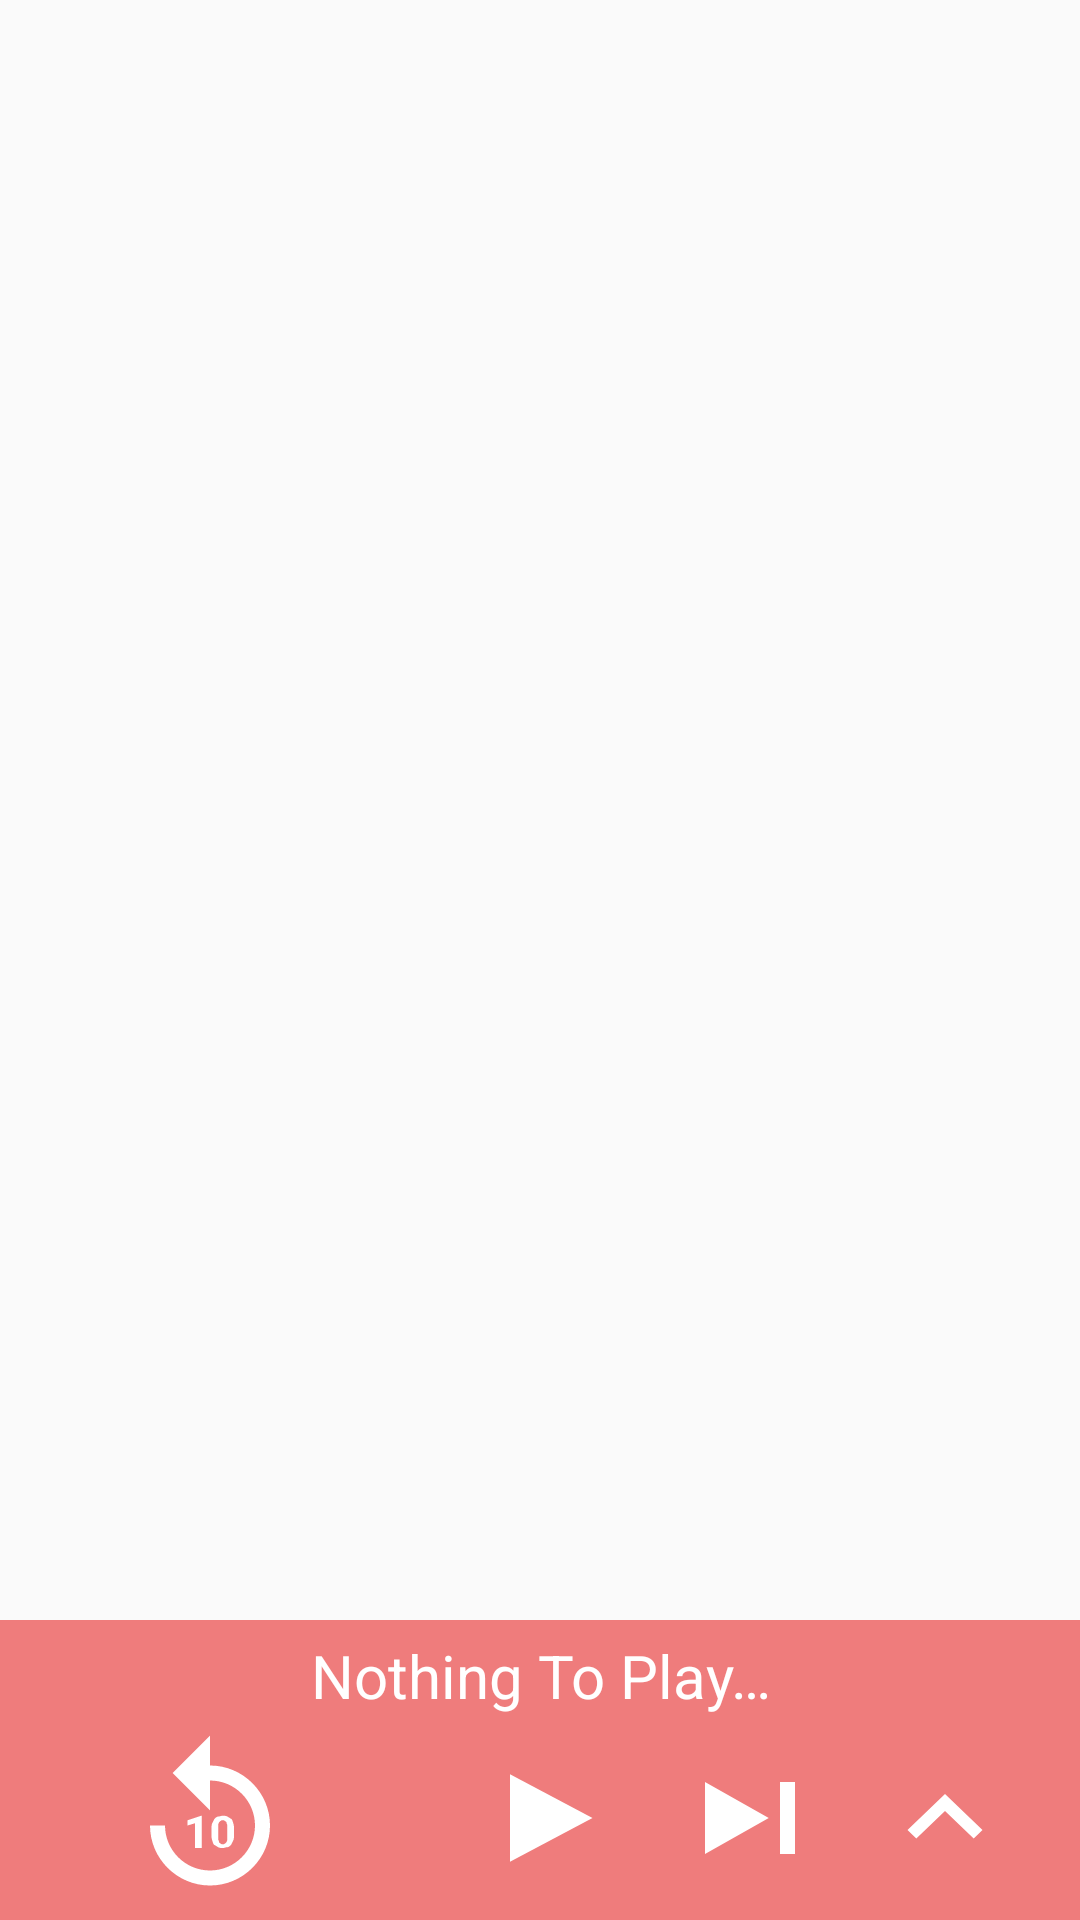

Named icons in this screenshot (1080×1920) and their bounding boxes, [x1=x1, y1=y1, x2=x2, y2=y2]:
keyboard arrow up: [x1=908, y1=1794, x2=982, y2=1839]
play arrow: [x1=510, y1=1774, x2=592, y2=1862]
replay: [x1=150, y1=1736, x2=270, y2=1886]
skip next: [x1=705, y1=1782, x2=795, y2=1854]
